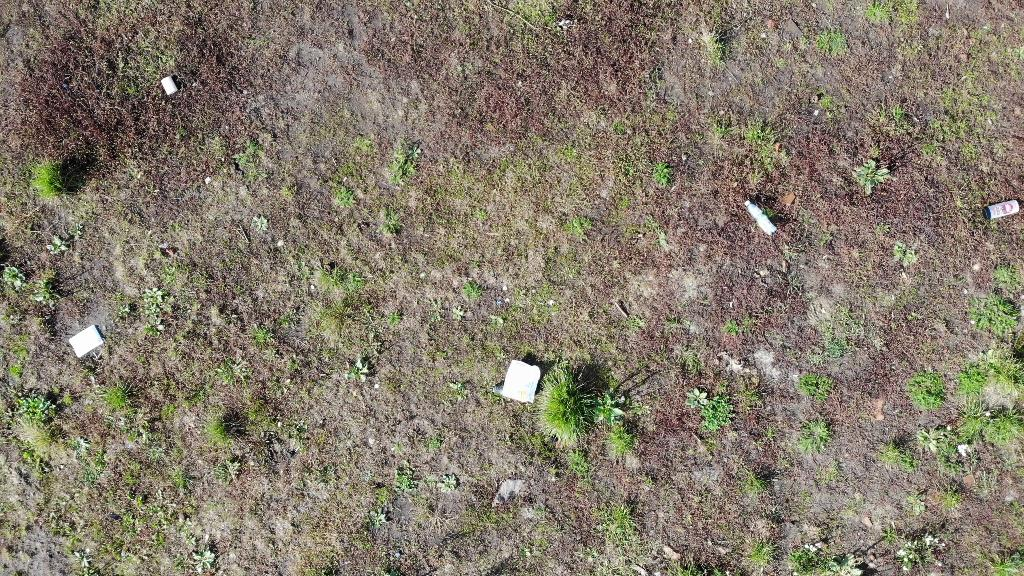garbage: (489, 358, 549, 406), (498, 358, 543, 404), (68, 321, 108, 359), (67, 322, 108, 358), (743, 199, 781, 237), (744, 199, 779, 235), (983, 196, 1022, 223), (158, 74, 178, 96), (487, 387, 517, 401)
